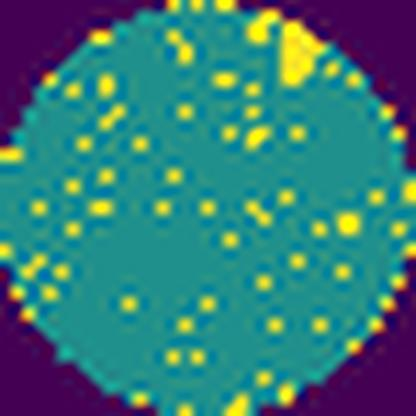Loc: (277, 20, 325, 92)
